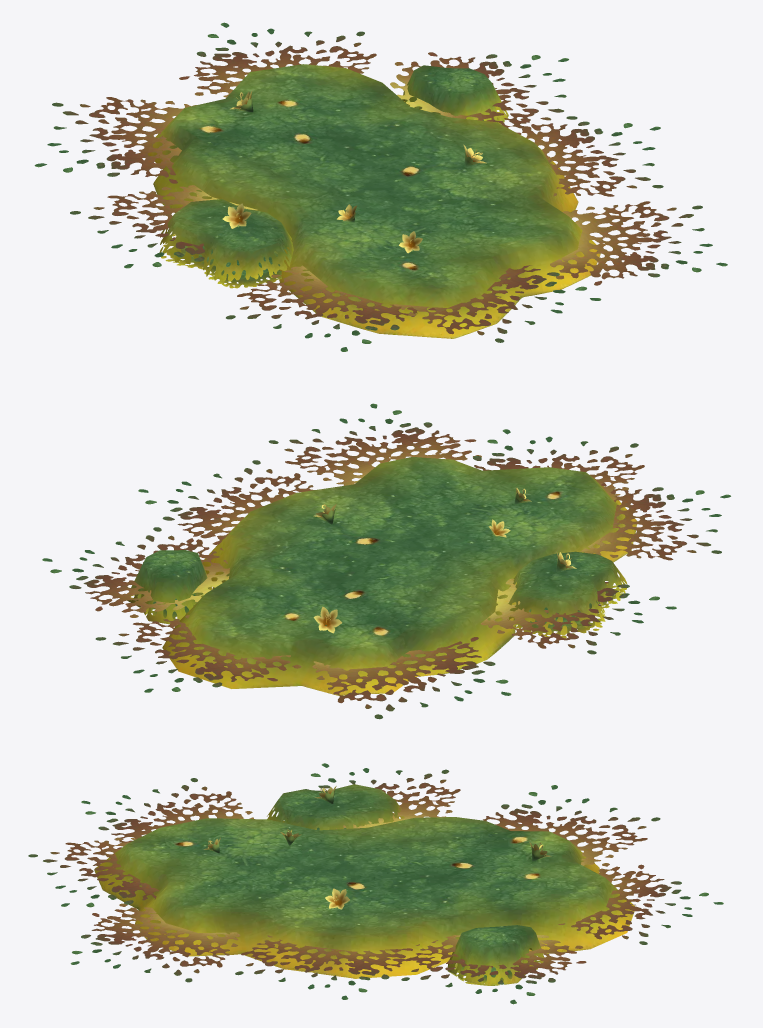
3 views of the same model, one above another, from view 1: azimuth 30°, elevation 25°; view 2: azimuth 150°, elevation 25°; view 3: azimuth 270°, elevation 25° (orthographic). The views are drawn at different scales.
Size of the model in its own units: 9.98 by 0.9496 by 12.2.
Materials: 1 (1 with a texture image).
